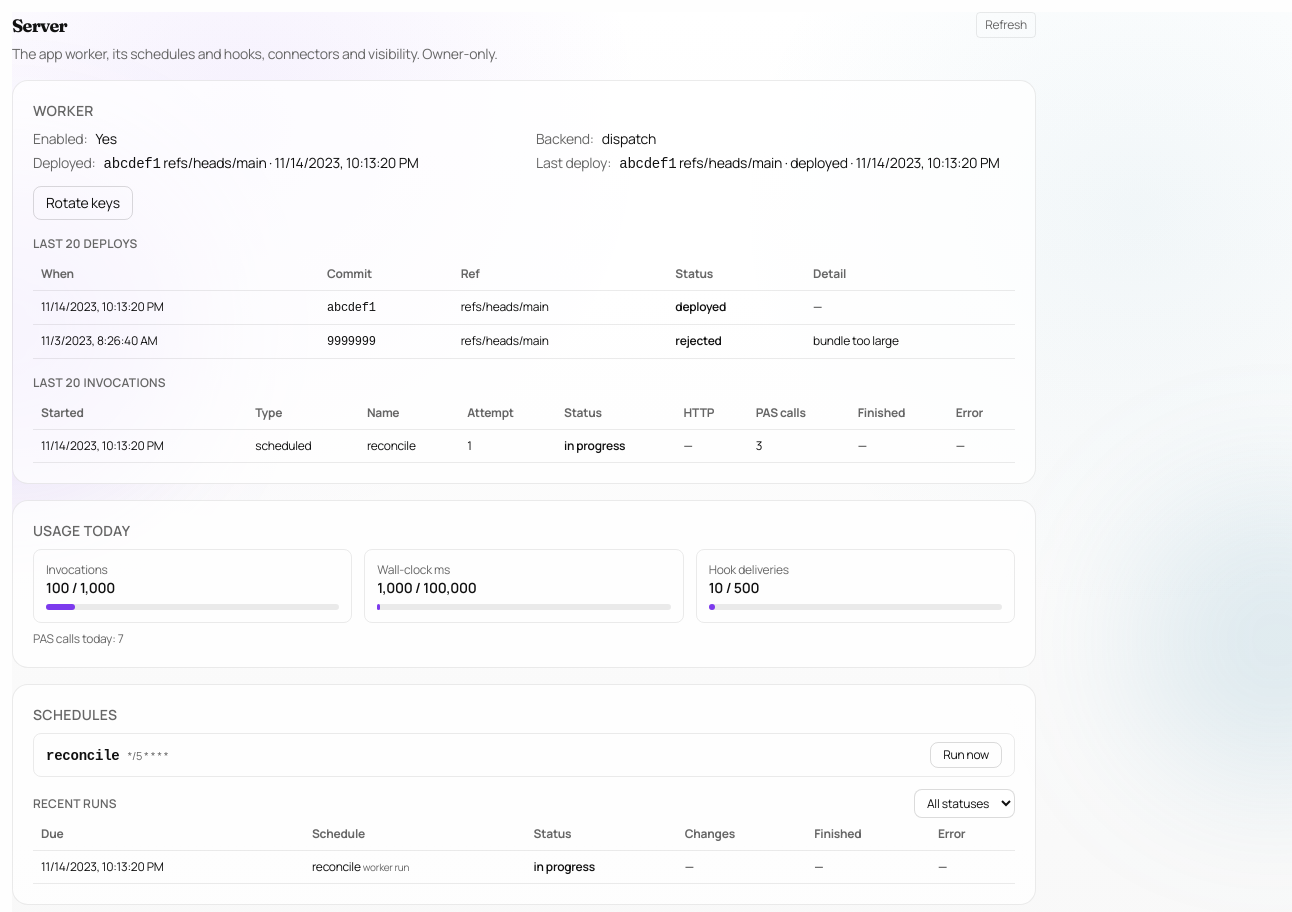
AppServer › queues a run now (202) and refreshes the runs
Step 1. Click the button "Run now" → (966, 755), box [930, 742, 1002, 768]
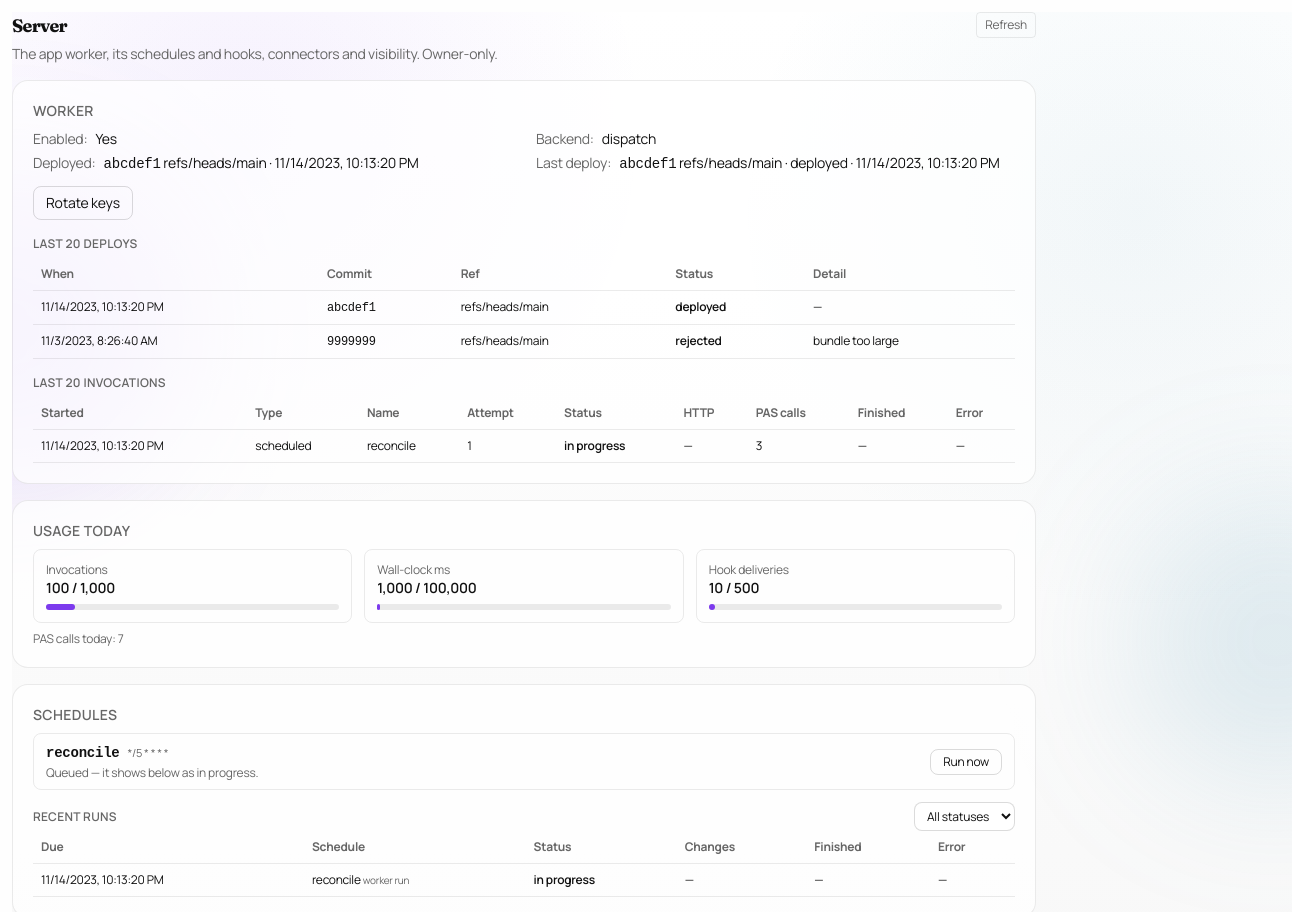
Check: the text "Queued — it shows below as in progress." is shown, box [46, 765, 258, 781]
